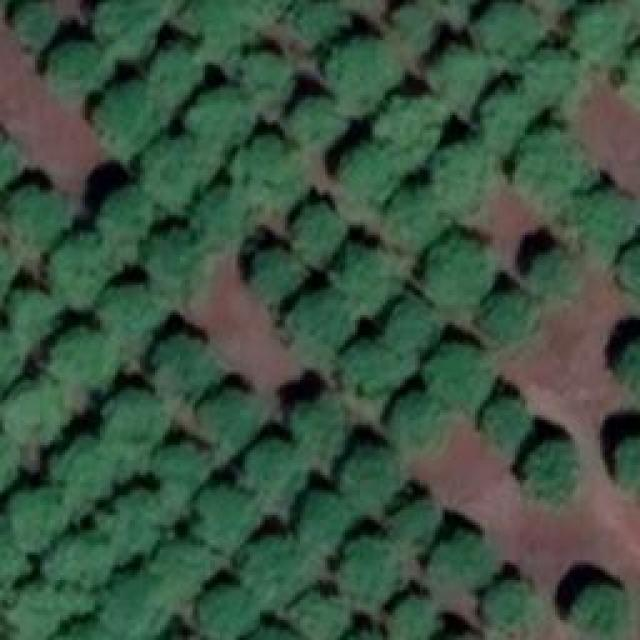Tree: (515, 130, 595, 207), (420, 225, 498, 303), (153, 335, 225, 406), (200, 382, 273, 452), (325, 240, 396, 308), (333, 537, 401, 608), (45, 233, 116, 300), (323, 33, 395, 99), (378, 185, 450, 251), (341, 440, 408, 510), (50, 325, 116, 395), (50, 438, 122, 502), (235, 135, 303, 202), (568, 190, 637, 256), (0, 380, 69, 446), (570, 0, 640, 65), (93, 80, 158, 150), (427, 145, 497, 210), (100, 282, 164, 353), (285, 391, 352, 458), (102, 493, 174, 555), (428, 343, 494, 410), (295, 485, 363, 550), (140, 225, 210, 288), (193, 480, 256, 550), (377, 95, 448, 156), (190, 0, 274, 51), (103, 573, 166, 640), (240, 530, 308, 592), (90, 0, 168, 54), (143, 138, 212, 199), (386, 388, 444, 460), (285, 285, 351, 347), (518, 438, 585, 499), (472, 0, 542, 57), (335, 140, 399, 202), (383, 293, 442, 360), (3, 485, 66, 547), (335, 335, 390, 406), (185, 85, 249, 146), (150, 540, 211, 604), (10, 185, 76, 244), (240, 435, 294, 507), (475, 85, 532, 153), (433, 533, 496, 594), (278, 90, 342, 150), (288, 203, 347, 268), (100, 185, 165, 244), (8, 580, 71, 640), (430, 48, 491, 109), (102, 390, 162, 451), (198, 578, 257, 640), (48, 535, 113, 591), (197, 185, 256, 246), (567, 580, 626, 639), (520, 250, 578, 309), (245, 247, 307, 301), (522, 40, 581, 96), (480, 578, 535, 638), (43, 40, 104, 93), (285, 590, 350, 639), (3, 285, 56, 344), (388, 498, 444, 553), (478, 396, 530, 454), (483, 285, 534, 342), (153, 435, 203, 490), (395, 3, 452, 50), (385, 592, 442, 639), (145, 43, 198, 93), (12, 0, 69, 45), (242, 53, 288, 105), (290, 0, 343, 44), (0, 325, 24, 391), (615, 430, 640, 490), (617, 233, 639, 298), (615, 335, 640, 390)
